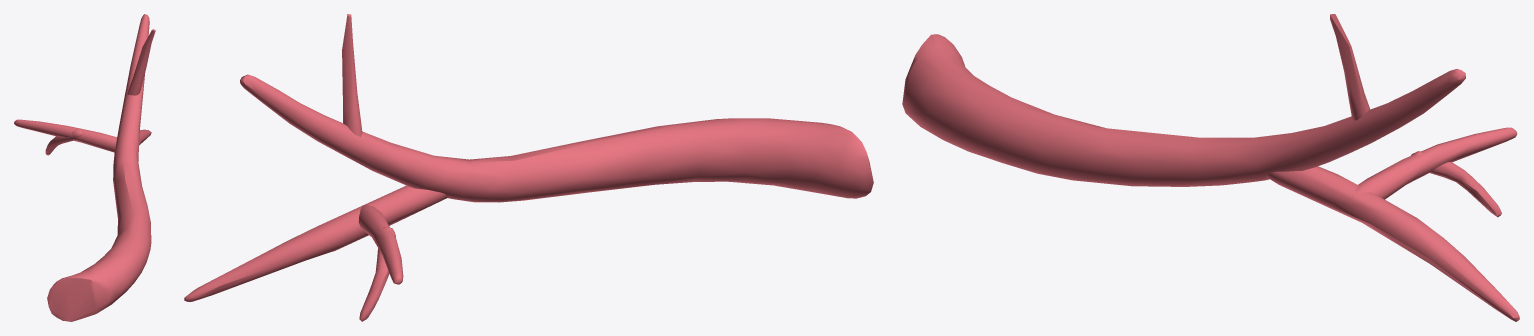
The model's file is fma8675_cx283.glb.
3 views of the same model, side by side, from view 1: azimuth 30°, elevation 25°; view 2: azimuth 150°, elevation 25°; view 3: azimuth 270°, elevation 25° (orthographic). The views are drawn at different scales.
Visible parts, largest first — view 1: FMA8675_CX283; view 2: FMA8675_CX283; view 3: FMA8675_CX283.
Boxes of the visible parts, box(x1,y1,x2,y2) form: FMA8675_CX283: box(14, 14, 155, 321); FMA8675_CX283: box(184, 14, 873, 321); FMA8675_CX283: box(902, 14, 1519, 321).
Bounding box in the file's own units: 0.0464 × 0.0256 × 0.0537.
